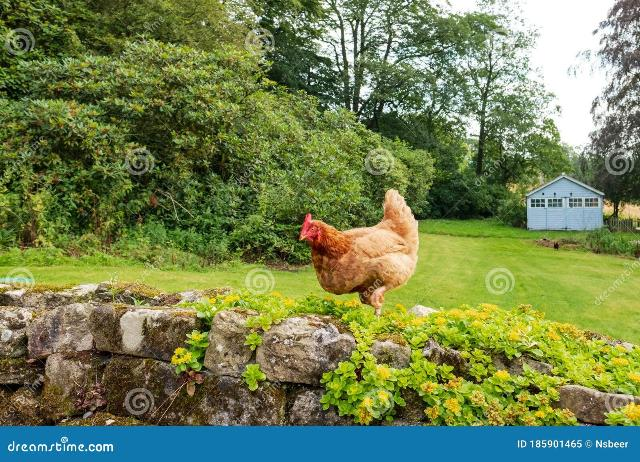Chicken: (300, 189, 420, 315)
